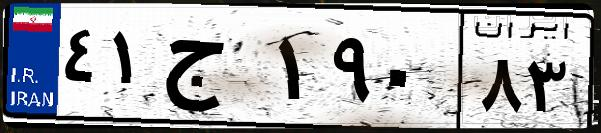0: (385, 28, 445, 110)
1: (270, 28, 330, 110), (110, 28, 158, 98)
3: (525, 38, 570, 115)
4: (57, 26, 110, 100)
8: (475, 38, 525, 113)
9: (330, 28, 385, 110)
ج: (158, 20, 270, 120)
